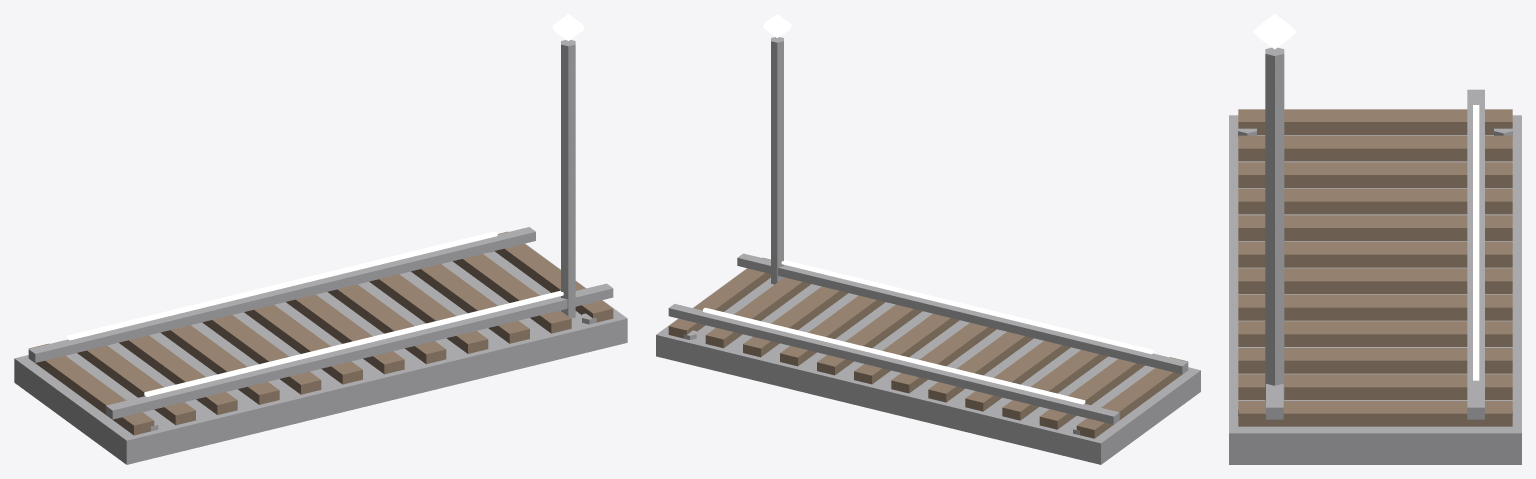
The model's file is rail_track_divine.glb.
3 renders of one model, left to right at view 1: azimuth 30°, elevation 25°; view 2: azimuth 150°, elevation 25°; view 3: azimuth 270°, elevation 25°, orthographic. The views are drawn at different scales.
Parts seen in each view (by area): view 1: rail_track; view 2: rail_track; view 3: rail_track.
Boxes of the visible parts, x1,y1,x2,y2 form: rail_track: [14, 14, 627, 464]; rail_track: [656, 14, 1200, 464]; rail_track: [1229, 14, 1521, 464].
Bounding box in the file's own units: 3.46 × 2.15 × 1.34.
